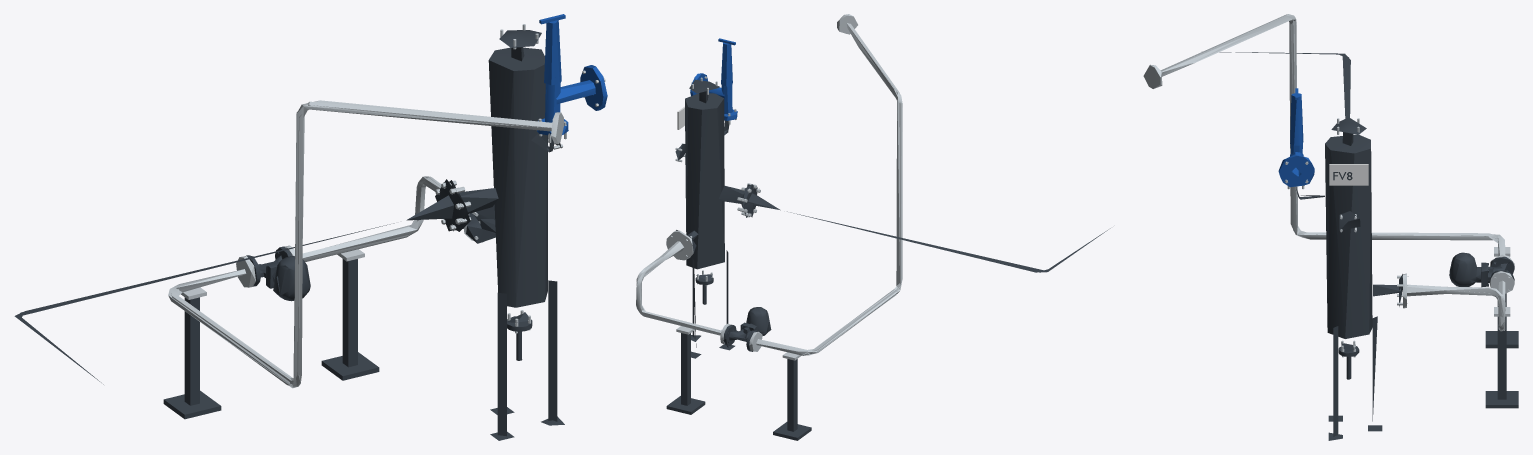
The picture shows the model from 3 angles, left to right: view 1: azimuth 30°, elevation 25°; view 2: azimuth 150°, elevation 25°; view 3: azimuth 270°, elevation 25°; orthographic projection. The views are drawn at different scales.
Visible parts, largest first — view 1: separator_fv8, trap_gap_to_bdv, trap_support, flash_steam_common, tds_to_fv, fv_to_trap_gap, condensate_trap; view 2: separator_fv8, trap_gap_to_bdv, trap_support, fv_to_trap_gap, tds_to_fv, flash_steam_common, condensate_trap; view 3: separator_fv8, trap_gap_to_bdv, trap_support, flash_steam_common, fv_to_trap_gap, condensate_trap, tds_to_fv.
Part boxes in pixels (x1,y1,x2,y2): separator_fv8: (449, 24, 566, 440); trap_gap_to_bdv: (168, 100, 563, 388); trap_support: (163, 249, 379, 419); flash_steam_common: (537, 14, 607, 138); tds_to_fv: (14, 179, 465, 384); fv_to_trap_gap: (284, 176, 482, 261); condensate_trap: (246, 246, 310, 301); separator_fv8: (675, 77, 757, 358); trap_gap_to_bdv: (749, 14, 902, 355); trap_support: (666, 326, 811, 440); fv_to_trap_gap: (636, 230, 730, 344); tds_to_fv: (740, 184, 1110, 272); flash_steam_common: (690, 38, 737, 122); condensate_trap: (723, 307, 771, 351); separator_fv8: (1287, 117, 1402, 440); trap_gap_to_bdv: (1143, 14, 1514, 265); trap_support: (1485, 247, 1518, 408); flash_steam_common: (1278, 88, 1314, 187); fv_to_trap_gap: (1403, 271, 1514, 331); condensate_trap: (1449, 252, 1514, 287); tds_to_fv: (1219, 52, 1350, 118).
Bounding box in the file's own units: 2.29 × 1.69 × 1.71.
